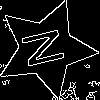N: (21, 24, 75, 70)
